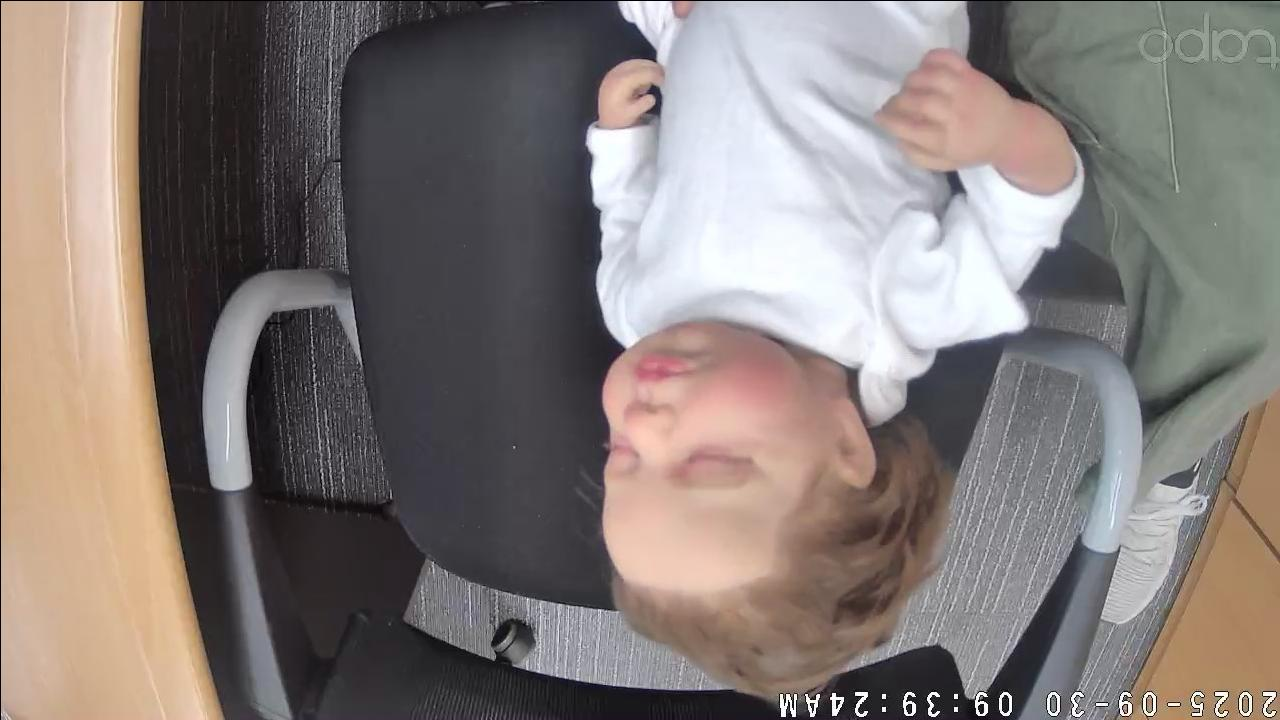hand: (876, 49, 1021, 174), (596, 57, 666, 129)
